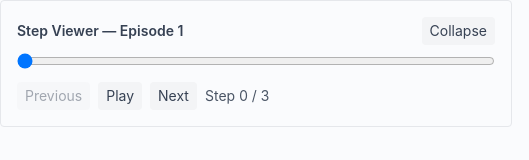
Scenario: EpisodeStepViewer — Phase 51: Collapse/Expand › clicking the toggle collapses the panel (controls hidden, aria-expanded=false)
Step 1. Click the button with test id "step-viewer-toggle" → (458, 31), box [422,17,495,45]
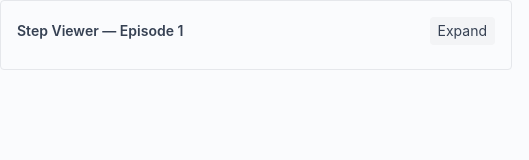
Check: the element with test id "step-viewer-controls" is gone
Check: the button with test id "step-viewer-toggle" is collapsed, box [430,17,495,45]
